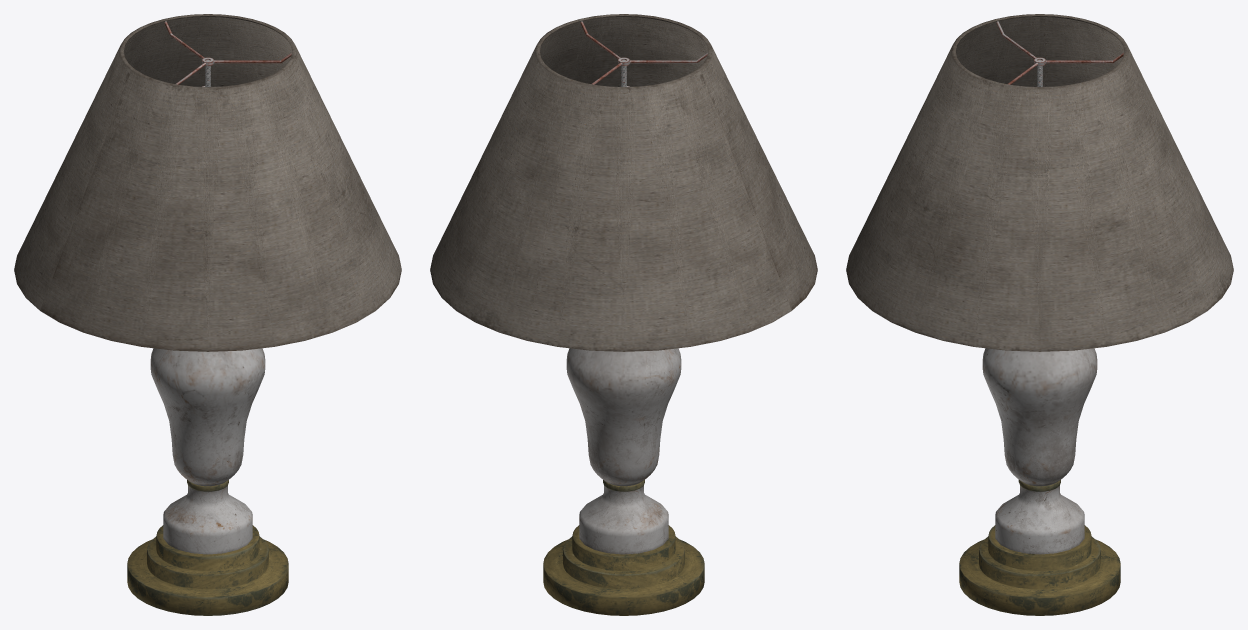
File: vintage_lamp.glb
The picture shows the model from 3 angles, left to right: view 1: azimuth 30°, elevation 25°; view 2: azimuth 150°, elevation 25°; view 3: azimuth 270°, elevation 25°; orthographic projection.
Parts seen in each view (by area): view 1: Cylinder.009_low; view 2: Cylinder.009_low; view 3: Cylinder.009_low.
Part boxes in pixels (x1=…): Cylinder.009_low: x1=14, y1=14, x2=401, y2=615; Cylinder.009_low: x1=430, y1=14, x2=817, y2=615; Cylinder.009_low: x1=846, y1=14, x2=1233, y2=615.
Size of the model in its own units: 0.4924 by 0.7444 by 0.4924.
1 material, 1 textured.
